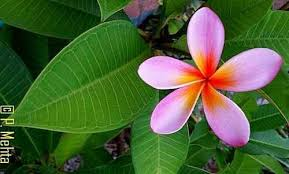frangipani: (140, 7, 284, 149)
